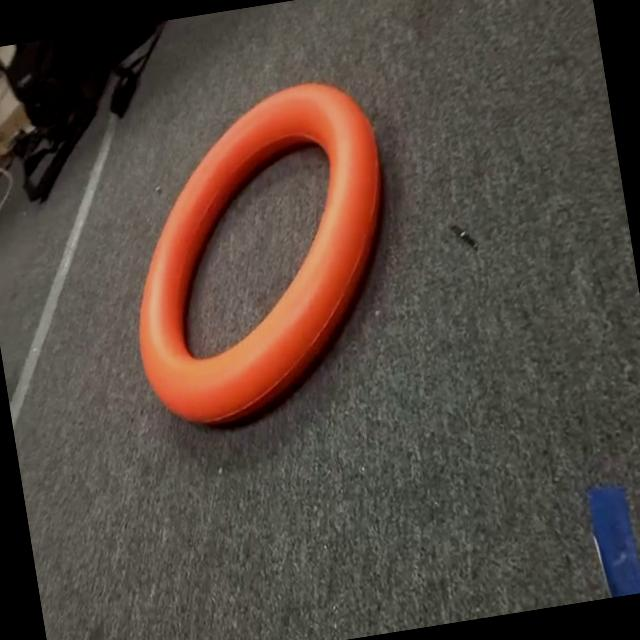note: (78, 59, 436, 457)
